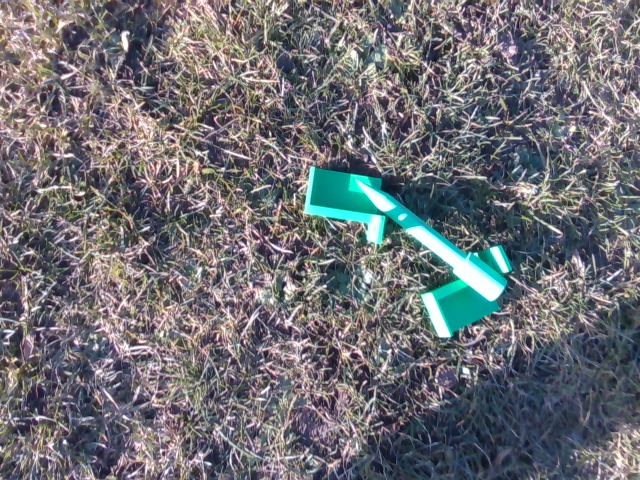Probe: (354, 177, 510, 302)
